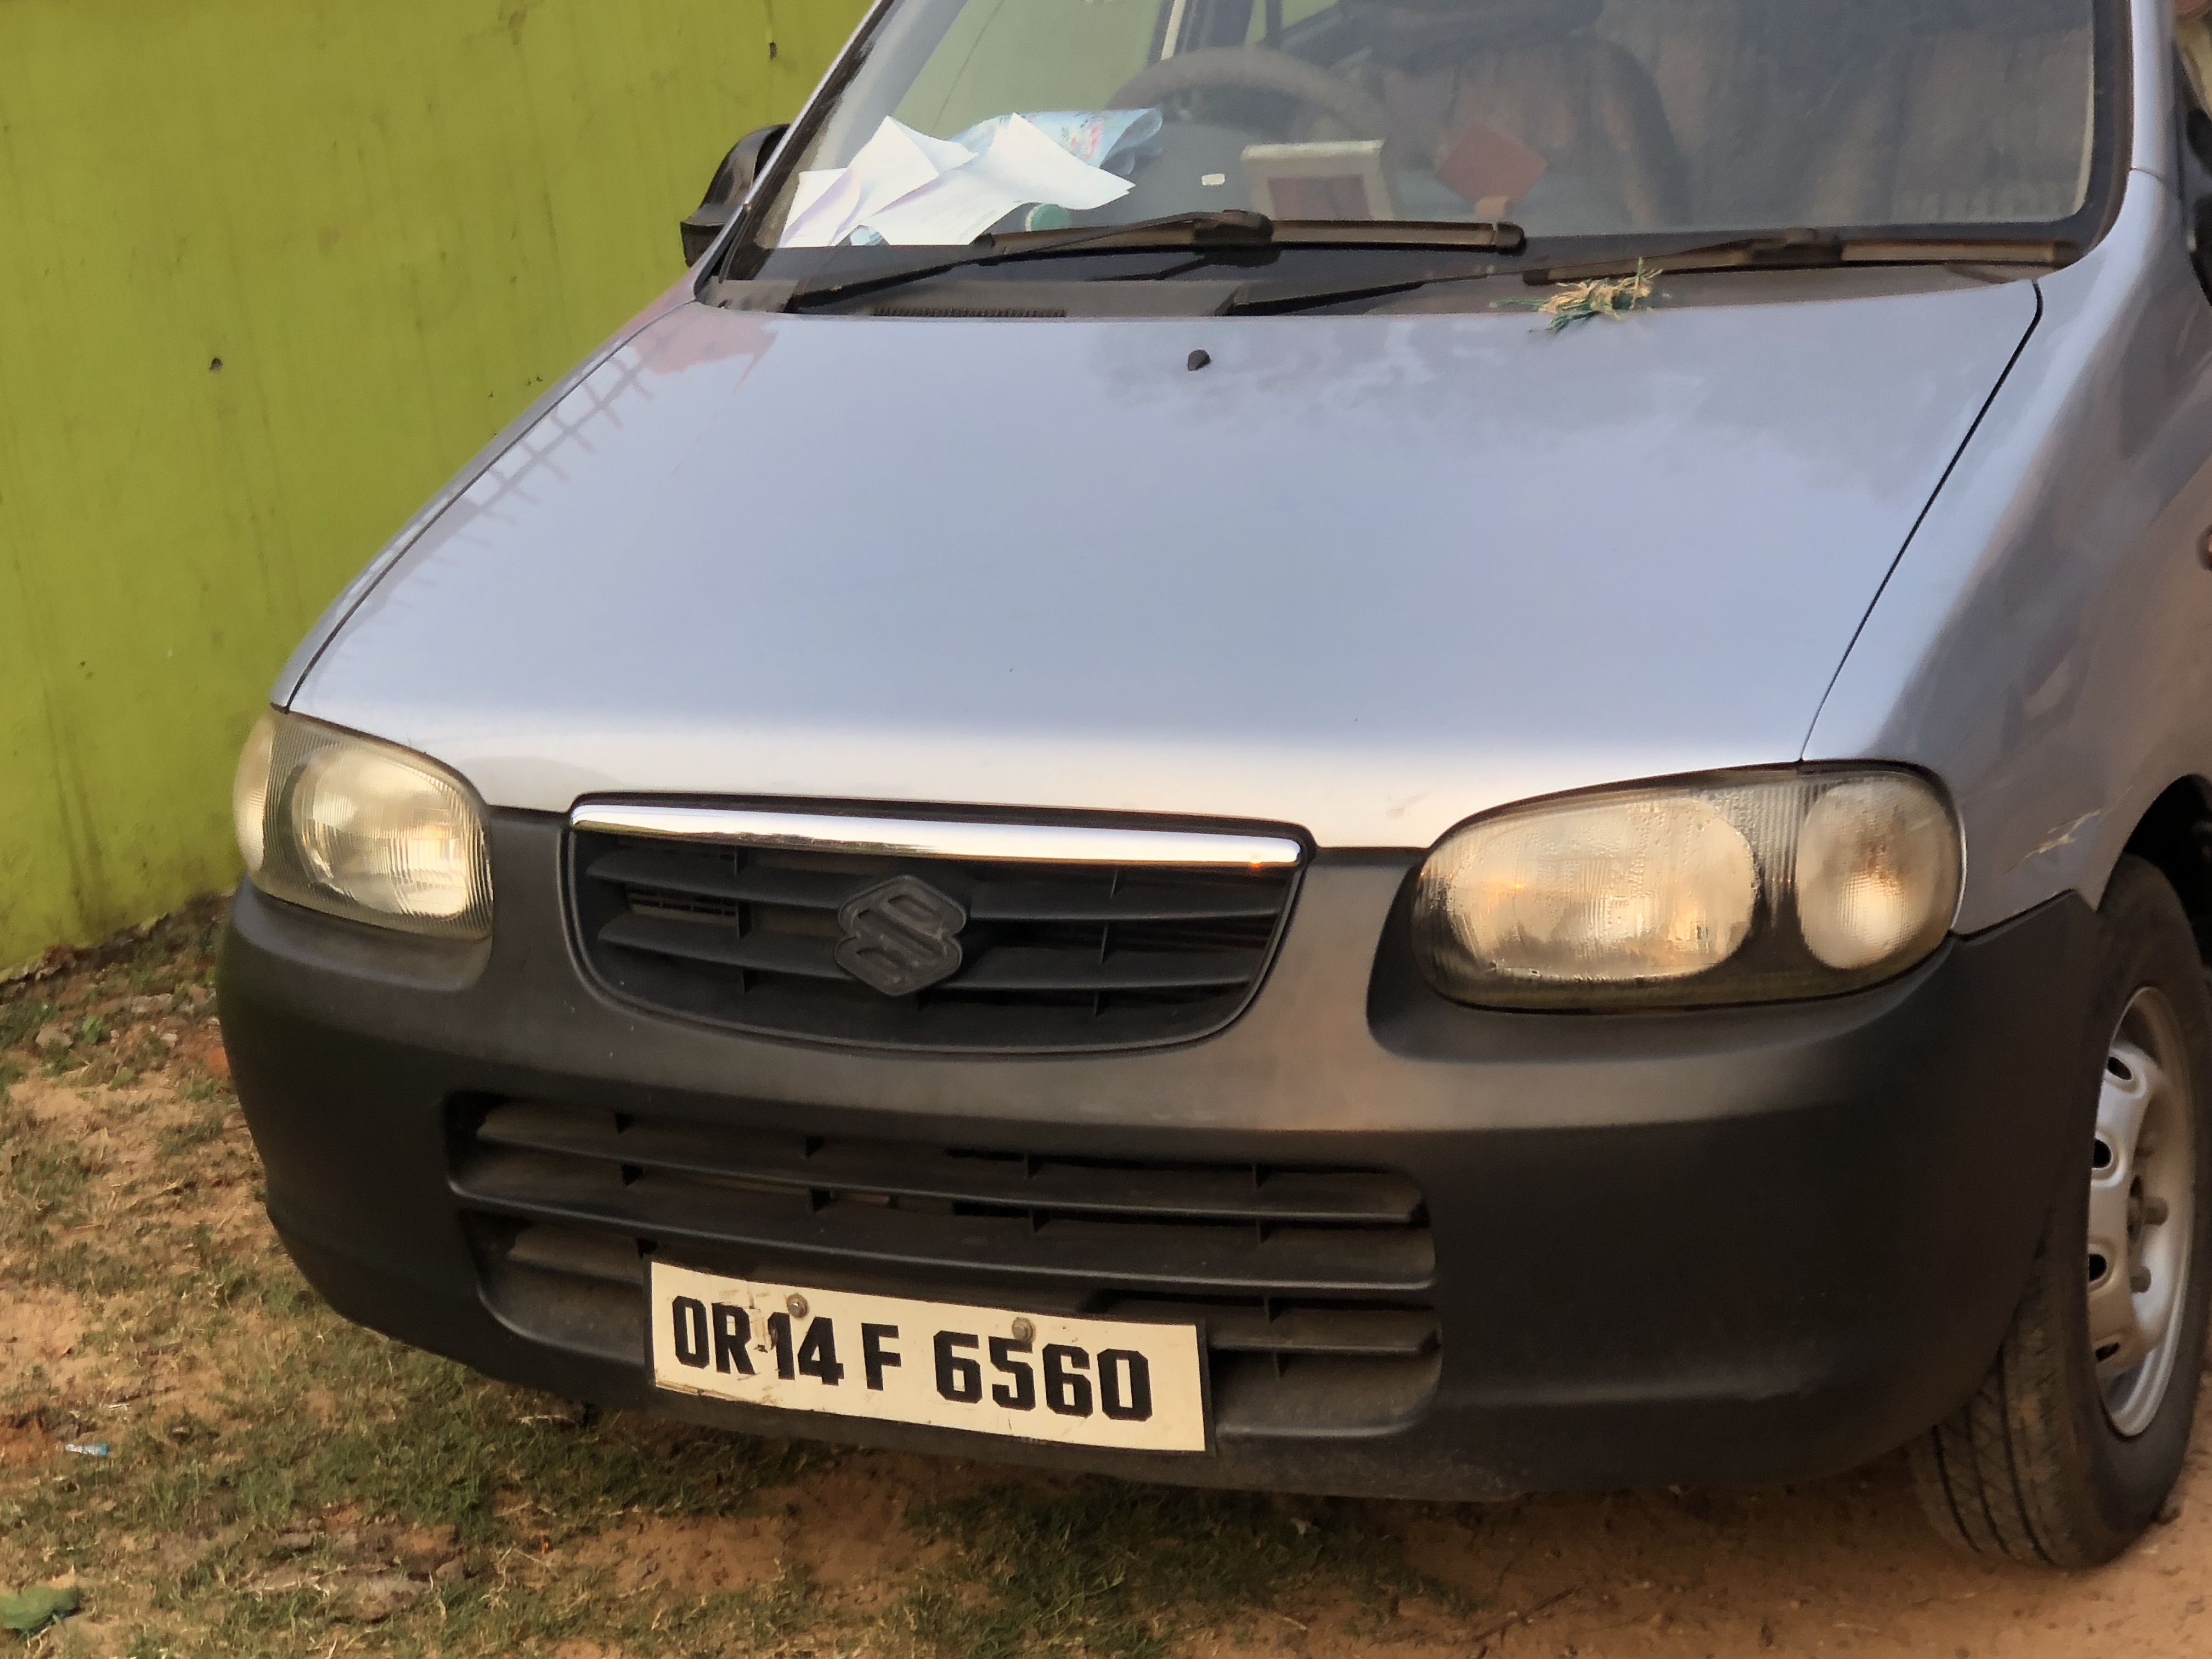licenseplate: (632, 1249, 1217, 1465)
